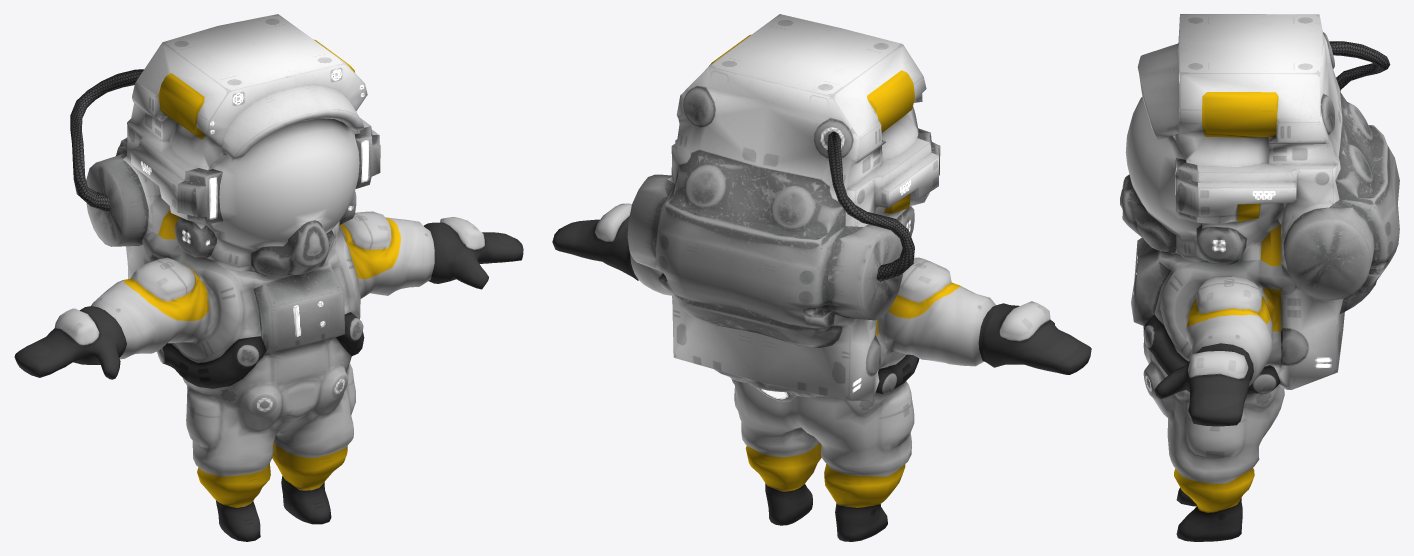
The picture shows the model from 3 angles, left to right: view 1: azimuth 30°, elevation 25°; view 2: azimuth 150°, elevation 25°; view 3: azimuth 270°, elevation 25°; orthographic projection. The views are drawn at different scales.
Visible parts, largest first — view 1: RetopoGroup1_default_0, ZBrush_defualt_group_default_0; view 2: RetopoGroup1_default_0, ZBrush_defualt_group_default_0; view 3: RetopoGroup1_default_0, ZBrush_defualt_group_default_0.
Part boxes in pixels (x1=…): RetopoGroup1_default_0: x1=14, y1=14, x2=523, y2=541; ZBrush_defualt_group_default_0: x1=70, y1=69, x2=143, y2=211; RetopoGroup1_default_0: x1=552, y1=14, x2=1091, y2=541; ZBrush_defualt_group_default_0: x1=827, y1=131, x2=914, y2=281; RetopoGroup1_default_0: x1=1120, y1=14, x2=1399, y2=541; ZBrush_defualt_group_default_0: x1=1329, y1=41, x2=1390, y2=90.
Size of the model in its own units: 84.96 by 74.27 by 39.71.
Materials: 2 (2 with a texture image).
